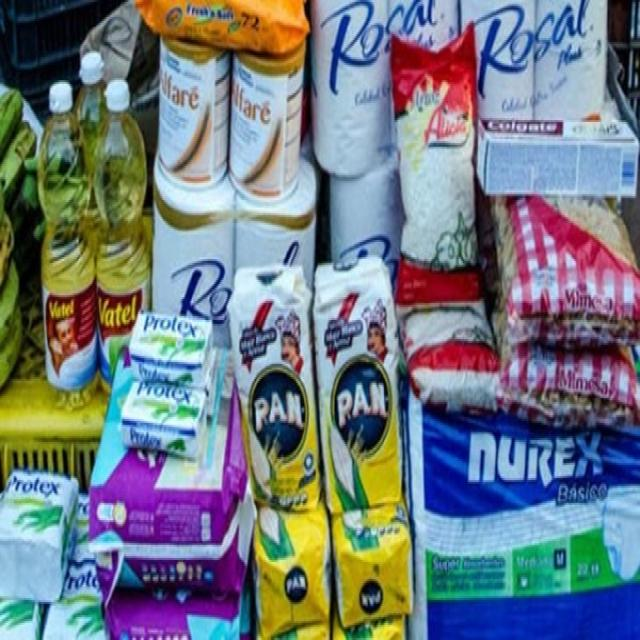Arina_pan: (230, 258, 325, 506), (315, 256, 404, 517), (257, 516, 333, 630), (335, 520, 417, 621)
